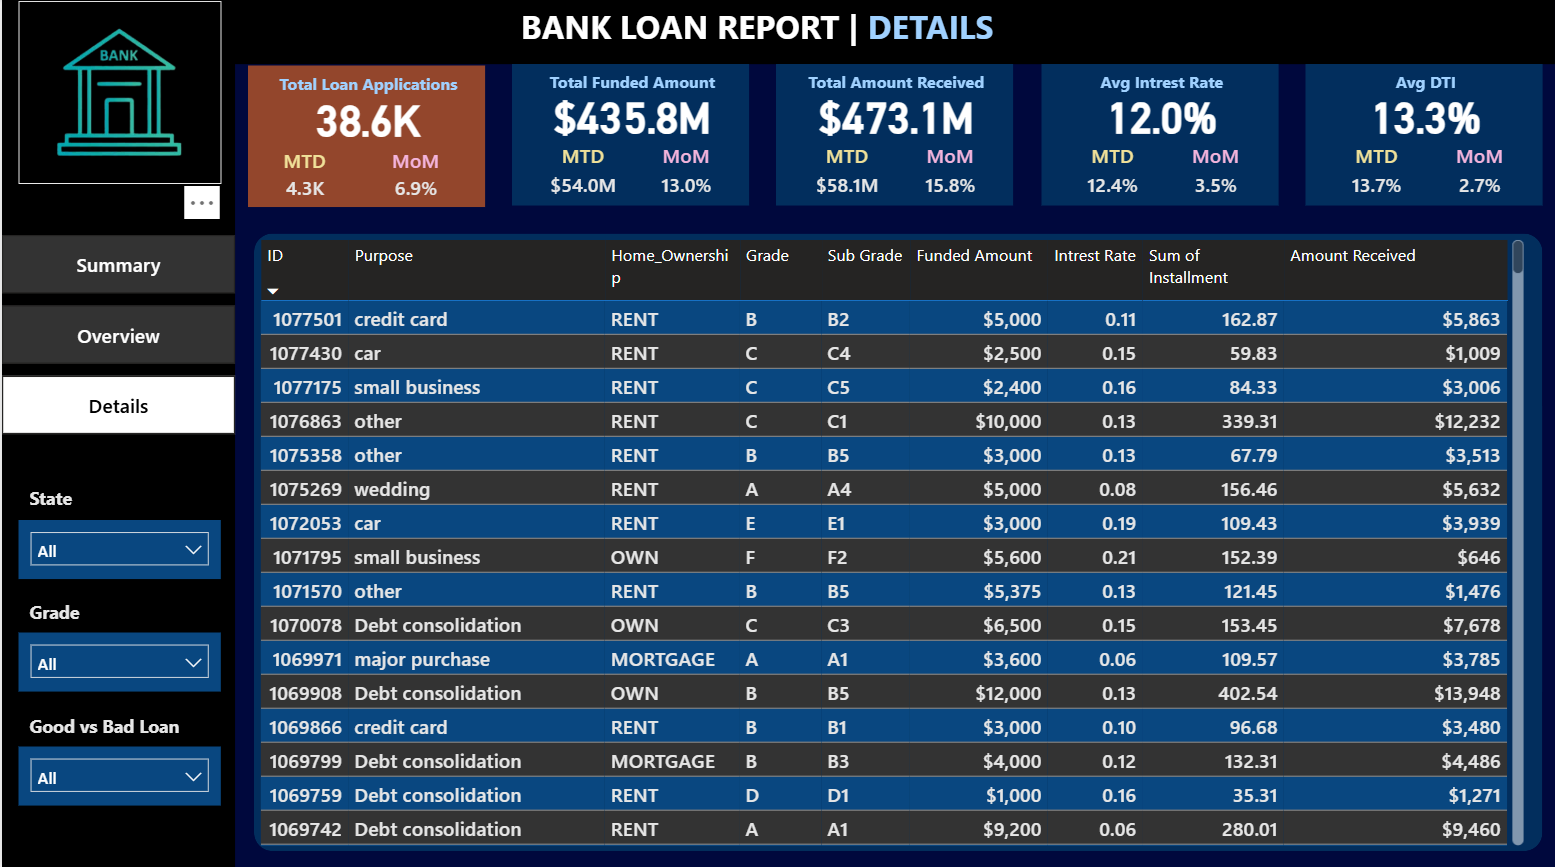

The page's visual inventory and layout, read from the dashboard file:
{"tool":"powerbi","page":{"name":"Details","canvas":[1280,720],"ordinal":2},"visuals":[{"type":"shape","box":[0,0,1279.5,54.5],"z":0},{"type":"shape","box":[0,54.5,192.3,664.7],"z":1000},{"type":"textbox","box":[422.5,0,436.1,57.5],"z":2000},{"type":"shape","box":[420.6,54.5,195.3,116.6],"z":3000,"group":"g2"},{"type":"shape","box":[638.2,54.5,195.3,116.6],"z":3000,"group":"g3"},{"type":"shape","box":[855.9,54.5,195.3,116.6],"z":3000,"group":"g4"},{"type":"shape","box":[1073.6,54.5,195.3,116.6],"z":3000,"group":"g5"},{"type":"shape","box":[202.9,56,195.3,116.6],"z":3000,"group":"g1"},{"type":"shape","box":[207.4,193.8,1061.5,508.8],"z":3000},{"type":"card","fields":{"Values":["bank_loan_tb.Total Funded Amount"]},"box":[446.6,55.2,145.4,80.3],"z":4000,"group":"g2"},{"type":"card","fields":{"Values":["bank_loan_tb.Total Amount Received"]},"box":[664.2,55.2,145.4,80.3],"z":4000,"group":"g3"},{"type":"card","fields":{"Values":["bank_loan_tb.Avg Intrest Rate"]},"box":[881.9,55.2,145.4,80.3],"z":4000,"group":"g4"},{"type":"card","fields":{"Values":["bank_loan_tb.Avg DTI"]},"box":[1099.6,55.2,145.4,80.3],"z":4000,"group":"g5"},{"type":"group","id":"g1","title":"Group 1","box":[202.9,56,198.4,116.6],"z":4000},{"type":"card","fields":{"Values":["bank_loan_tb.Bank Loan Application"]},"box":[236.2,60.5,130.2,75.7],"z":4000,"group":"g1"},{"type":"group","id":"g2","title":"Group 1","box":[420.6,54.5,198.4,116.6],"z":5000},{"type":"textbox","box":[420.6,54.5,198.4,28.8],"z":5000,"group":"g2"},{"type":"textbox","box":[638.2,54.5,198.4,28.8],"z":5000,"group":"g3"},{"type":"textbox","box":[855.9,54.5,198.4,28.8],"z":5000,"group":"g4"},{"type":"textbox","box":[1073.6,54.5,198.4,28.8],"z":5000,"group":"g5"},{"type":"textbox","box":[202.9,56,198.4,28.8],"z":5000,"group":"g1"},{"type":"group","id":"g3","title":"Group 1","box":[638.2,54.5,198.4,116.6],"z":6000},{"type":"card","title":"MTD","fields":{"Values":["bank_loan_tb.MTD Funded Amount"]},"box":[446.6,118.8,65.1,53],"z":6000,"group":"g2"},{"type":"card","title":"MTD","fields":{"Values":["bank_loan_tb.MTD Total Amount Received"]},"box":[664.2,118.8,65.1,53],"z":6000,"group":"g3"},{"type":"card","title":"MTD","fields":{"Values":["bank_loan_tb.MTD Avg Intrest Rate"]},"box":[881.9,118.8,65.1,53],"z":6000,"group":"g4"},{"type":"card","title":"MTD","fields":{"Values":["bank_loan_tb.MTD Avg DTI Rate"]},"box":[1099.6,118.8,65.1,53],"z":6000,"group":"g5"},{"type":"card","title":"MTD","fields":{"Values":["bank_loan_tb.MTD Loan Application"]},"box":[224.1,122.6,51.5,50],"z":6000,"group":"g1"},{"type":"group","id":"g4","title":"Group 1","box":[855.9,54.5,198.4,116.6],"z":7000},{"type":"card","title":"MoM","fields":{"Values":["bank_loan_tb.MoM Funded Amount"]},"box":[532.9,118.8,62.1,53],"z":7000,"group":"g2"},{"type":"card","title":"MoM","fields":{"Values":["bank_loan_tb.MoM Total Amount Received"]},"box":[750.5,118.8,62.1,53],"z":7000,"group":"g3"},{"type":"card","title":"MoM","fields":{"Values":["bank_loan_tb.MoM Intrest Rate"]},"box":[968.2,118.8,62.1,53],"z":7000,"group":"g4"},{"type":"card","title":"MoM","fields":{"Values":["bank_loan_tb.MoM Avg DTI Rate"]},"box":[1185.9,118.8,62.1,53],"z":7000,"group":"g5"},{"type":"card","title":"MoM","fields":{"Values":["bank_loan_tb.MoM Loan Application"]},"box":[315,122.6,51.5,50],"z":7000,"group":"g1"},{"type":"group","id":"g5","title":"Group 1","box":[1073.6,54.5,198.4,116.6],"z":8000},{"type":"slicer","fields":{"Values":["bank_loan_tb.address_state"]},"box":[13.6,429.5,166.6,48.5],"z":9000},{"type":"textbox","box":[13.6,396.7,98.4,31.8],"z":10000},{"type":"slicer","fields":{"Values":["bank_loan_tb.grade"]},"box":[13.6,522.9,166.6,48.5],"z":11000},{"type":"textbox","box":[13.6,490.6,98.4,31.8],"z":12000},{"type":"slicer","fields":{"Values":["bank_loan_tb.Good vs Bad Loans"]},"box":[13.6,616.3,166.6,48.5],"z":13000},{"type":"textbox","box":[13.6,584.5,142.3,31.8],"z":14000},{"type":"tableEx","fields":{"Values":["bank_loan_tb.id","bank_loan_tb.purpose","bank_loan_tb.home_ownership","bank_loan_tb.grade","bank_loan_tb.sub_grade","bank_loan_tb.Total Funded Amount","Sum(bank_loan_tb.int_rate)","Sum(bank_loan_tb.installment)","bank_loan_tb.Total Amount Received"]},"box":[207.4,193.8,1050.9,508.8],"z":15000},{"type":"pageNavigator","box":[0,195.3,192.3,165],"z":16000},{"type":"image","box":[13.6,3,166.6,149.9],"z":16001}]}

Visuals, with their boxes in screenshot pixels (x1, y1, x2, y2), scaled from the page's 1280x720 canvas onto the 1555x867 screenshot:
shape: <box>0,0,1554,66</box>
shape: <box>0,66,234,866</box>
textbox: <box>513,0,1043,69</box>
shape: <box>511,66,748,206</box>
shape: <box>775,66,1013,206</box>
shape: <box>1040,66,1277,206</box>
shape: <box>1304,66,1542,206</box>
shape: <box>246,67,484,208</box>
shape: <box>252,233,1542,846</box>
card - bank_loan_tb.Total Funded Amount: <box>543,66,719,163</box>
card - bank_loan_tb.Total Amount Received: <box>807,66,984,163</box>
card - bank_loan_tb.Avg Intrest Rate: <box>1071,66,1248,163</box>
card - bank_loan_tb.Avg DTI: <box>1336,66,1512,163</box>
"Group 1" group: <box>246,67,488,208</box>
card - bank_loan_tb.Bank Loan Application: <box>287,73,445,164</box>
"Group 1" group: <box>511,66,752,206</box>
textbox: <box>511,66,752,100</box>
textbox: <box>775,66,1016,100</box>
textbox: <box>1040,66,1281,100</box>
textbox: <box>1304,66,1545,100</box>
textbox: <box>246,67,488,102</box>
"Group 1" group: <box>775,66,1016,206</box>
"MTD" card: <box>543,143,622,207</box>
"MTD" card: <box>807,143,886,207</box>
"MTD" card: <box>1071,143,1150,207</box>
"MTD" card: <box>1336,143,1415,207</box>
"MTD" card: <box>272,148,335,208</box>
"Group 1" group: <box>1040,66,1281,206</box>
"MoM" card: <box>647,143,723,207</box>
"MoM" card: <box>912,143,987,207</box>
"MoM" card: <box>1176,143,1252,207</box>
"MoM" card: <box>1441,143,1516,207</box>
"MoM" card: <box>383,148,445,208</box>
"Group 1" group: <box>1304,66,1545,206</box>
slicer - bank_loan_tb.address_state: <box>17,517,219,576</box>
textbox: <box>17,478,136,516</box>
slicer - bank_loan_tb.grade: <box>17,630,219,688</box>
textbox: <box>17,591,136,629</box>
slicer - bank_loan_tb.Good vs Bad Loans: <box>17,742,219,801</box>
textbox: <box>17,704,189,742</box>
tableEx - bank_loan_tb.id x bank_loan_tb.purpose: <box>252,233,1529,846</box>
pageNavigator: <box>0,235,234,434</box>
image: <box>17,4,219,184</box>
